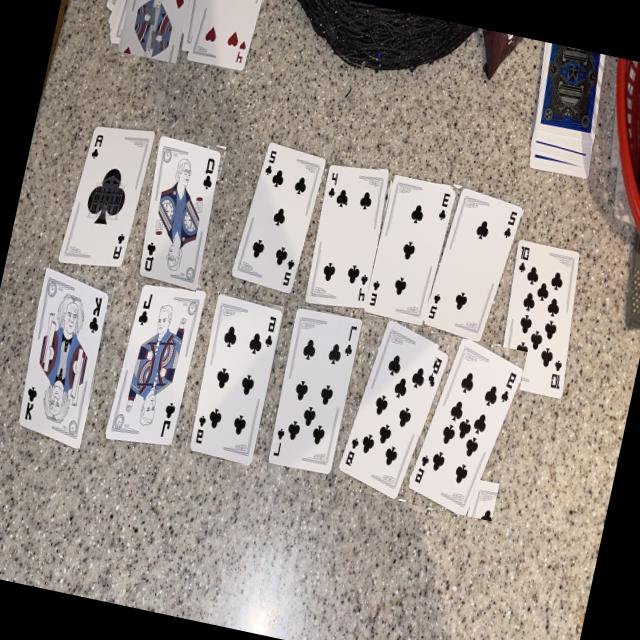10 of clubs: (499, 238, 580, 398)
2 of clubs: (425, 186, 523, 340)
3 of clubs: (365, 174, 457, 323)
4 of clubs: (306, 162, 389, 308)
4 of hearts: (188, 0, 262, 69)
5 of clubs: (232, 140, 325, 291)
6 of clubs: (190, 292, 282, 464)
7 of clubs: (269, 307, 361, 474)
8 of clubs: (340, 319, 449, 497)
9 of clubs: (409, 337, 523, 514)
Ace of clubs: (58, 124, 155, 266)
Jack of clubs: (105, 282, 205, 444)
King of clubs: (20, 267, 109, 448)
King of hearts: (121, 0, 189, 61)
Queen of clubs: (140, 134, 221, 289)
